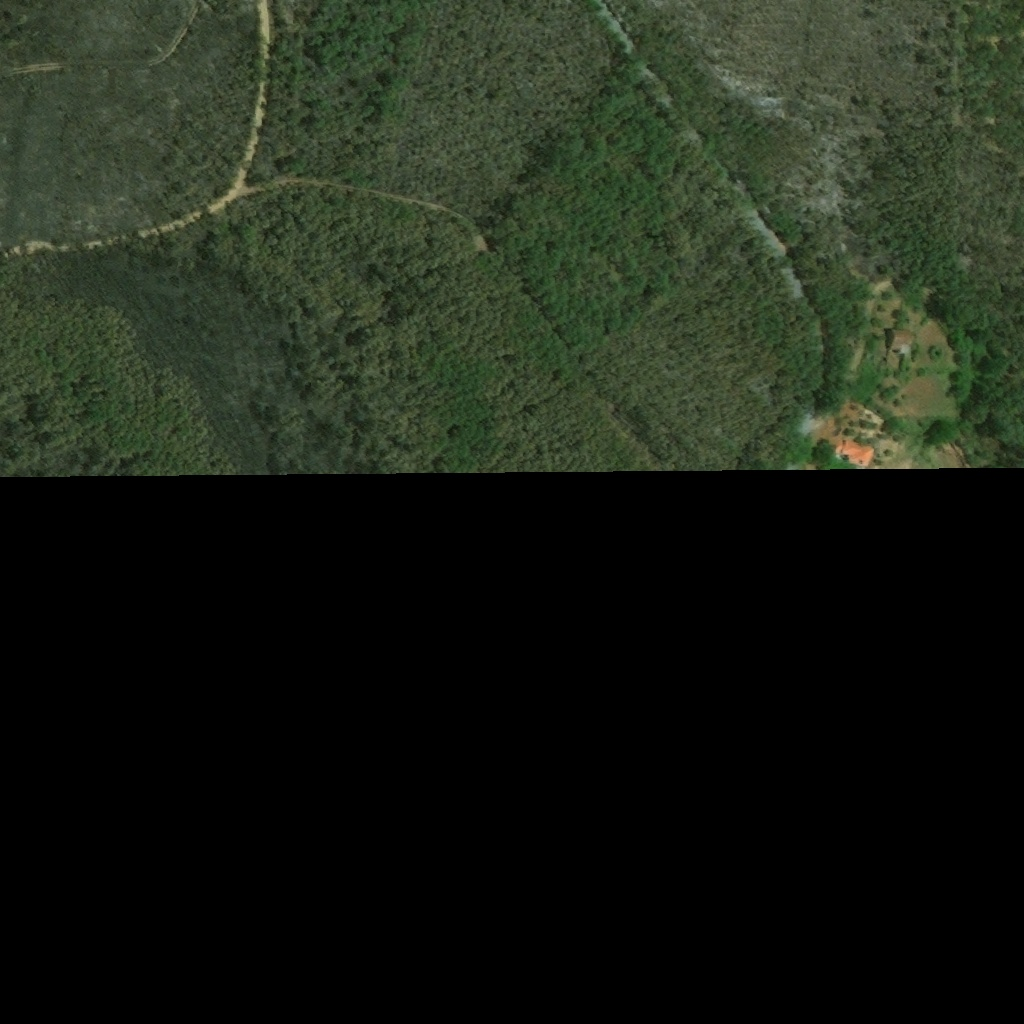0 no-damage: (841, 438, 876, 460), (891, 329, 913, 354)
